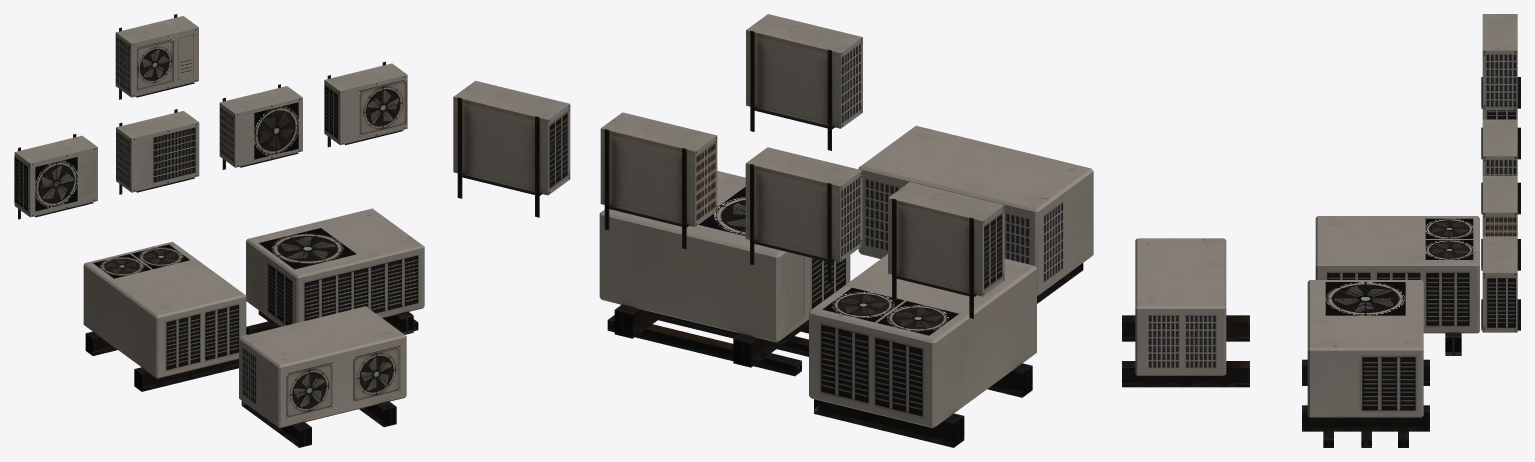
File: condizionatori.glb
The picture shows the model from 3 angles, left to right: view 1: azimuth 30°, elevation 25°; view 2: azimuth 150°, elevation 25°; view 3: azimuth 270°, elevation 25°; orthographic projection. The views are drawn at different scales.
Visible parts, largest first — view 1: Object_2; view 2: Object_2; view 3: Object_2.
Boxes of the visible parts, x1,y1,x2,y2 form: Object_2: [14, 14, 424, 447]; Object_2: [453, 14, 1093, 447]; Object_2: [1122, 14, 1520, 447].
Size of the model in its own units: 621 by 453 by 512.
1 material, 1 textured.
